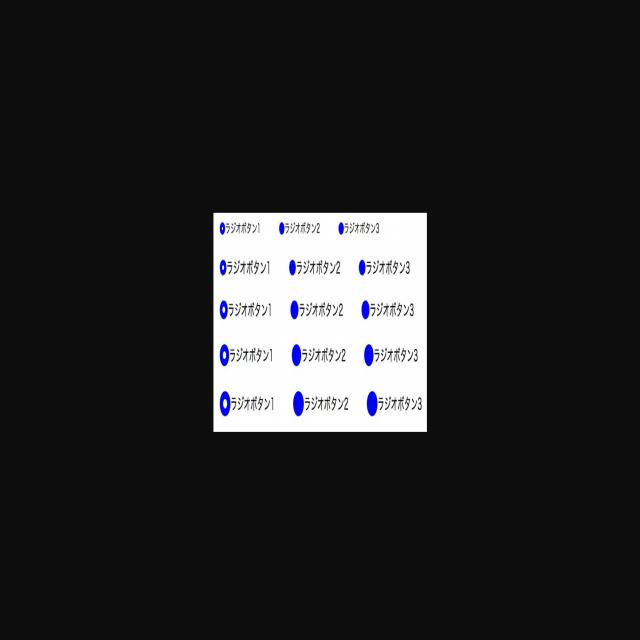radio: (219, 390, 231, 417), (219, 345, 230, 365), (219, 300, 228, 318), (219, 258, 227, 276), (218, 219, 226, 235)
